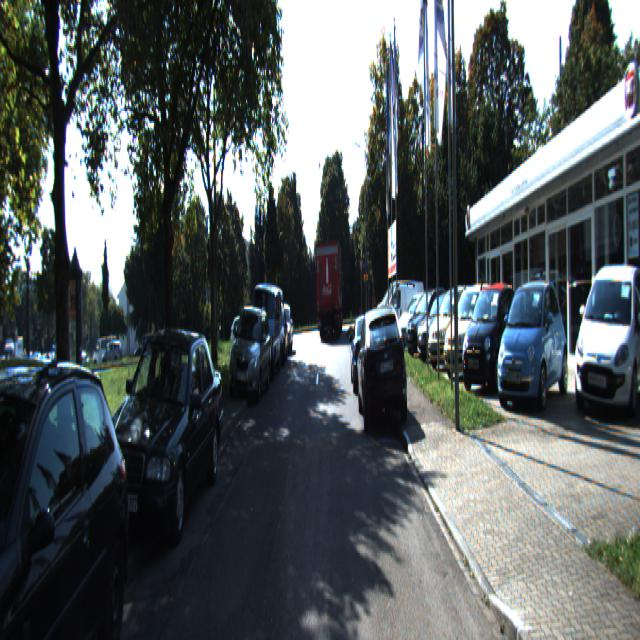Car: (0, 338, 136, 638), (91, 319, 225, 563), (572, 248, 640, 422), (496, 276, 570, 412), (460, 278, 523, 394), (356, 297, 409, 433), (442, 281, 504, 379), (426, 282, 484, 370), (227, 302, 272, 405), (413, 291, 470, 364), (248, 281, 284, 381), (315, 241, 344, 341), (349, 311, 383, 394), (377, 283, 420, 345)
